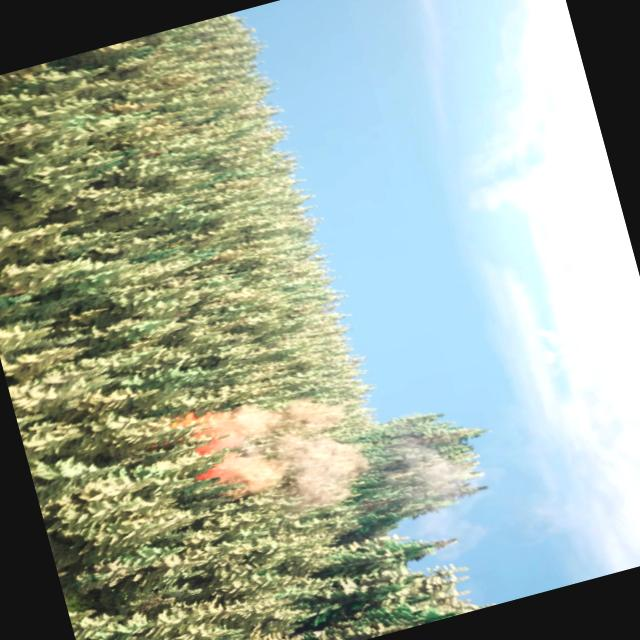fire: (175, 402, 256, 503)
smoke: (198, 348, 500, 566)
